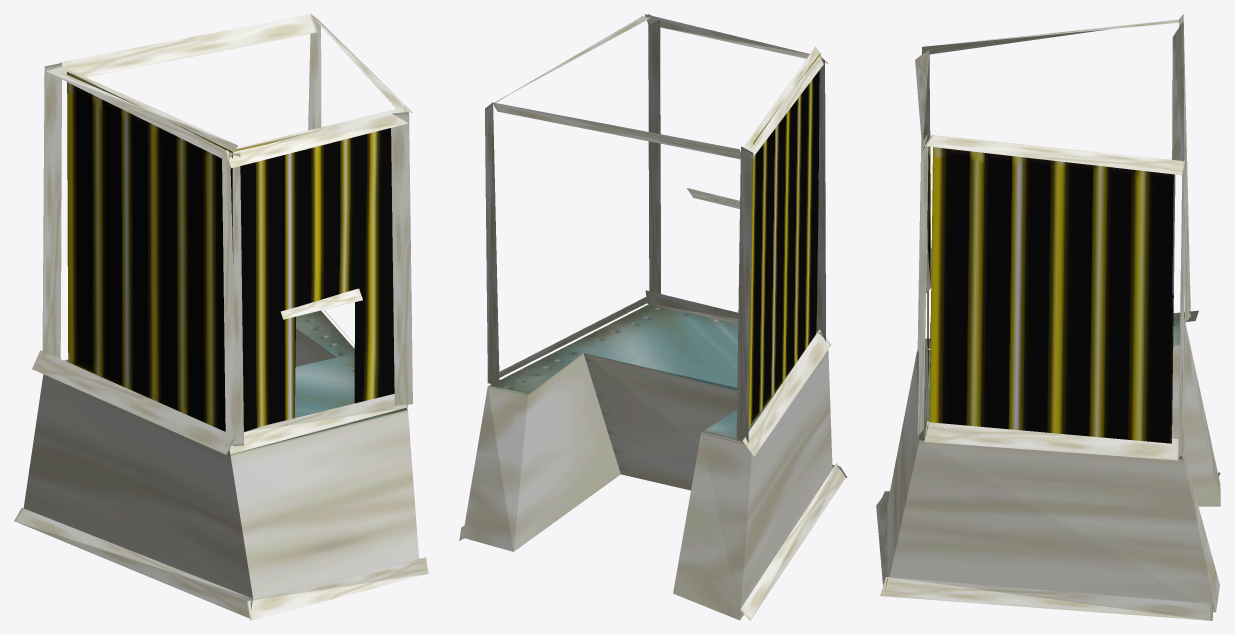
Rendered from Bankschalter_167.glb.
3 views of the same model, side by side, from view 1: azimuth 30°, elevation 25°; view 2: azimuth 150°, elevation 25°; view 3: azimuth 270°, elevation 25° (orthographic). The views are drawn at different scales.
Visible parts, largest first — view 1: pPlaneShape21, pPlaneShape4, pPlaneShape5, pPlaneShape20, pPlaneShape10, pPlaneShape11, pPlaneShape16, pPlaneShape22, pPlaneShape14, pPlaneShape9, pPlaneShape12, pPlaneShape18 (+5 smaller); view 2: pPlaneShape21, pPlaneShape4, pPlaneShape22, pPlaneShape11, pPlaneShape20, pPlaneShape15, pPlaneShape14, pPlaneShape9, pPlaneShape16, pPlaneShape10, pPlaneShape19, pPlaneShape18 (+3 smaller); view 3: pPlaneShape3, pPlaneShape21, pPlaneShape13, pPlaneShape7, pPlaneShape17, pPlaneShape20, pPlaneShape16, pPlaneShape19, pPlaneShape15, pPlaneShape11, pPlaneShape18, pPlaneShape12 (+2 smaller).
Boxes of the visible parts, x1,y1,x2,y2 form: pPlaneShape21: (23, 329, 418, 599); pPlaneShape4: (67, 71, 233, 431); pPlaneShape5: (234, 128, 394, 431); pPlaneShape20: (391, 112, 412, 405); pPlaneShape10: (222, 153, 243, 446); pPlaneShape11: (42, 63, 61, 358); pPlaneShape16: (59, 14, 317, 77); pPlaneShape22: (64, 310, 407, 453); pPlaneShape14: (14, 508, 252, 618); pPlaneShape9: (32, 350, 234, 454); pPlaneShape12: (247, 557, 427, 620); pPlaneShape18: (226, 107, 408, 168); pPlaneShape21: (462, 350, 832, 620); pPlaneShape4: (748, 53, 820, 427); pPlaneShape22: (488, 304, 777, 442); pPlaneShape11: (736, 146, 753, 442); pPlaneShape20: (648, 14, 660, 293); pPlaneShape15: (485, 102, 499, 387); pPlaneShape14: (740, 463, 845, 620); pPlaneShape9: (742, 329, 831, 456); pPlaneShape16: (492, 102, 740, 159); pPlaneShape10: (816, 58, 825, 341); pPlaneShape19: (743, 46, 825, 157); pPlaneShape18: (645, 14, 828, 63); pPlaneShape3: (929, 147, 1175, 443); pPlaneShape21: (887, 318, 1220, 612); pPlaneShape13: (880, 577, 1213, 620); pPlaneShape7: (924, 421, 1179, 460); pPlaneShape17: (925, 135, 1184, 175); pPlaneShape20: (917, 134, 928, 435); pPlaneShape16: (1172, 21, 1184, 160); pPlaneShape19: (922, 19, 1183, 54); pPlaneShape15: (1178, 160, 1184, 458); pPlaneShape11: (1178, 14, 1190, 323); pPlaneShape18: (915, 50, 929, 151); pPlaneShape12: (876, 493, 887, 588).
Size of the model in its own units: 0.2428 by 0.3597 by 0.2372.
Materials: 20 (20 with a texture image).
